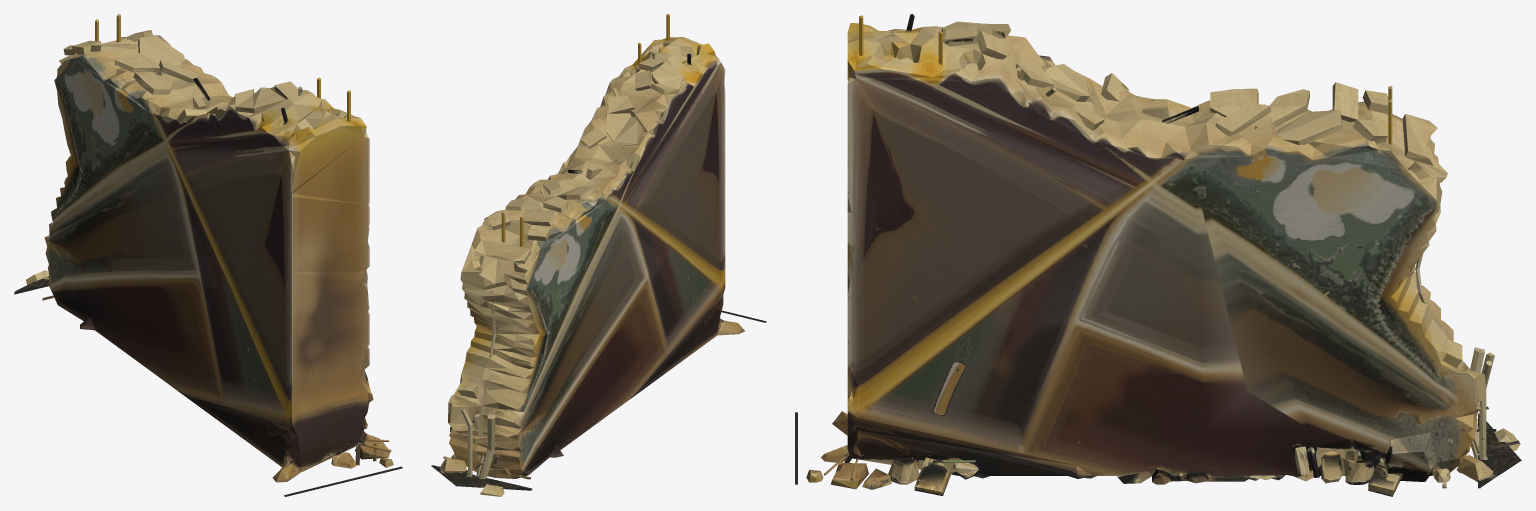
The model's file is wall_segment.glb.
3 views of the same model, side by side, from view 1: azimuth 30°, elevation 25°; view 2: azimuth 150°, elevation 25°; view 3: azimuth 270°, elevation 25° (orthographic). The views are drawn at different scales.
Visible parts, largest first — view 1: tripo_node_e7b5a429-9eed-4cda-be5e-227b3fb63207; view 2: tripo_node_e7b5a429-9eed-4cda-be5e-227b3fb63207; view 3: tripo_node_e7b5a429-9eed-4cda-be5e-227b3fb63207.
Boxes of the visible parts, x1,y1,x2,y2 form: tripo_node_e7b5a429-9eed-4cda-be5e-227b3fb63207: (14, 14, 402, 496); tripo_node_e7b5a429-9eed-4cda-be5e-227b3fb63207: (431, 14, 766, 496); tripo_node_e7b5a429-9eed-4cda-be5e-227b3fb63207: (795, 14, 1521, 496).
Size of the model in its own units: 0.2676 by 0.6973 by 0.998.
1 material, 1 textured.
